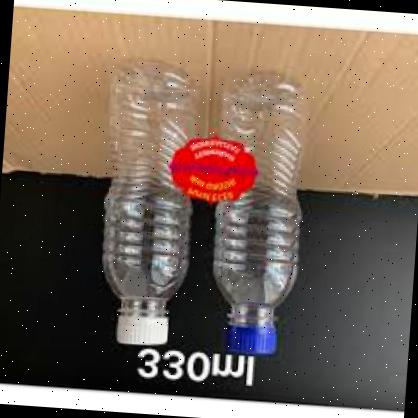bottle: (92, 55, 212, 354), (207, 68, 326, 364)
cap: (219, 318, 283, 358), (112, 308, 172, 350)
